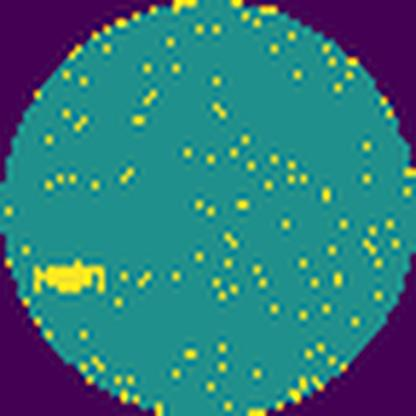Edge-Loc: (30, 258, 111, 291)
